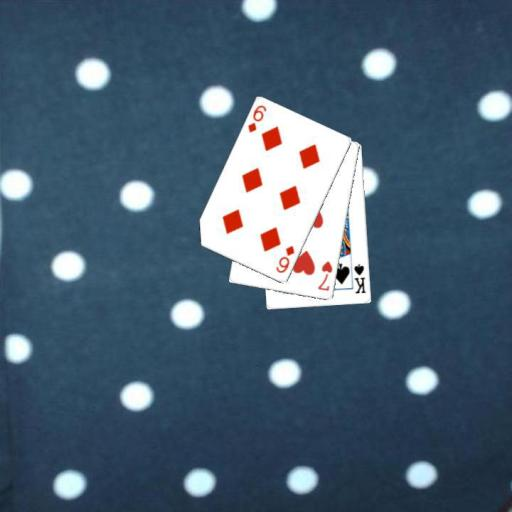6D: (272, 243, 296, 275), (245, 103, 268, 135)
7H: (315, 258, 334, 293)
KS: (351, 261, 368, 295)
